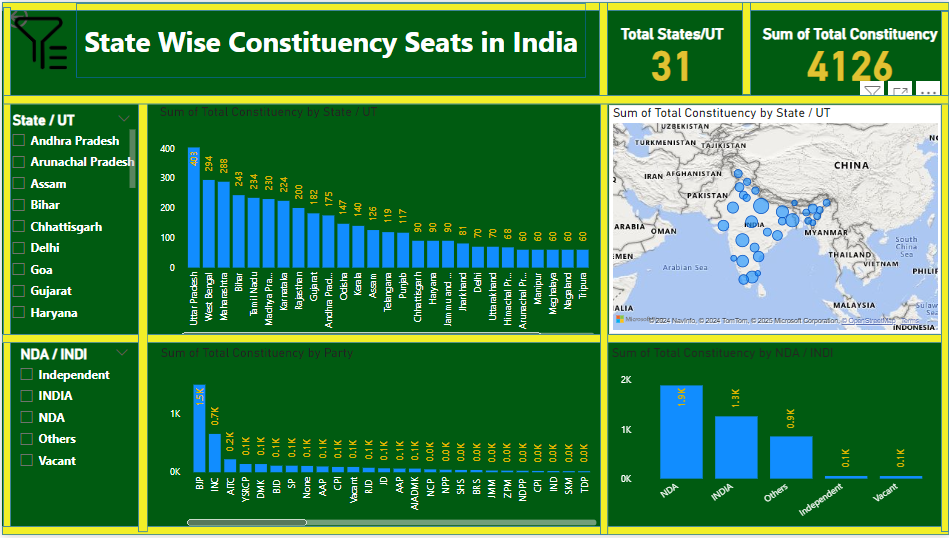

The dashboard page shown, as its layout file describes it:
{"tool":"powerbi","page":{"name":"Project","canvas":[1280,720],"ordinal":0},"visuals":[{"type":"card","title":"Total States/UT","fields":{"Values":["Count(Data.State / UT)"]},"box":[789.3,30.7,233.3,94.7],"z":0},{"type":"card","title":"Sum of Total Constituency","fields":{"Values":["Sum(Data.Total Constituency)"]},"box":[1012,30.7,268,94.7],"z":1000},{"type":"columnChart","fields":{"Category":["Data.State / UT"],"Y":["Sum(Data.Total Constituency)"]},"box":[208.2,137.8,597.8,322.1],"z":2000},{"type":"columnChart","fields":{"Y":["Sum(Data.Total Constituency)"],"Category":["Data.Party"]},"box":[209.6,464.2,599.2,249],"z":3000},{"type":"map","fields":{"Category":["Data.State / UT"],"Size":["Sum(Data.Total Constituency)"]},"box":[820.3,139.2,448.6,309.5],"z":4000},{"type":"columnChart","fields":{"Y":["Sum(Data.Total Constituency)"],"Category":["Data.NDA / INDI"]},"box":[818.6,464.2,461.4,254.6],"z":5000},{"type":"slicer","fields":{"Values":["Data.State / UT"]},"box":[1.4,143.5,184.3,301],"z":6000},{"type":"slicer","fields":{"Values":["Data.NDA / INDI"]},"box":[12,460,170.7,196],"z":7000},{"type":"actionButton","box":[0,0,100,40],"z":8000},{"type":"shape","box":[0,0,1280,12],"z":9000},{"type":"shape","box":[100,1.3,689.3,101.3],"z":10000},{"type":"shape","box":[1.3,6.7,10.7,709.3],"z":11000},{"type":"shape","box":[0,707.7,1280,12.2],"z":12000},{"type":"shape","box":[0,448.1,1280,12.2],"z":13000},{"type":"shape","box":[184,128,13.3,588],"z":14000},{"type":"shape","box":[1269.3,12,10.7,704],"z":15000},{"type":"shape","box":[808,127,11,593],"z":16000},{"type":"image","box":[6.7,6.7,90.7,96],"z":17000},{"type":"shape","box":[1000,0,12,125.3],"z":18000},{"type":"shape","box":[806.7,0,12,130.7],"z":19000},{"type":"shape","box":[1.4,125.2,1278.6,12.7],"z":20000}]}

Visuals, with their boxes in screenshot pixels (x1, y1, x2, y2), scaled from the page's 1280x720 canvas onto the 949x538 screenshot:
"Total States/UT" card: <box>585,23,758,94</box>
"Sum of Total Constituency" card: <box>750,23,948,94</box>
columnChart - Data.State / UT x Sum(Data.Total Constituency): <box>154,103,598,344</box>
columnChart - Sum(Data.Total Constituency) x Data.Party: <box>155,347,600,533</box>
map - Data.State / UT x Sum(Data.Total Constituency): <box>608,104,941,335</box>
columnChart - Sum(Data.Total Constituency) x Data.NDA / INDI: <box>607,347,948,537</box>
slicer - Data.State / UT: <box>1,107,138,332</box>
slicer - Data.NDA / INDI: <box>9,344,135,490</box>
actionButton: <box>0,0,74,30</box>
shape: <box>0,0,948,9</box>
shape: <box>74,1,585,77</box>
shape: <box>1,5,9,535</box>
shape: <box>0,529,948,537</box>
shape: <box>0,335,948,344</box>
shape: <box>136,96,146,535</box>
shape: <box>941,9,948,535</box>
shape: <box>599,95,607,537</box>
image: <box>5,5,72,77</box>
shape: <box>741,0,750,94</box>
shape: <box>598,0,607,98</box>
shape: <box>1,94,948,103</box>
